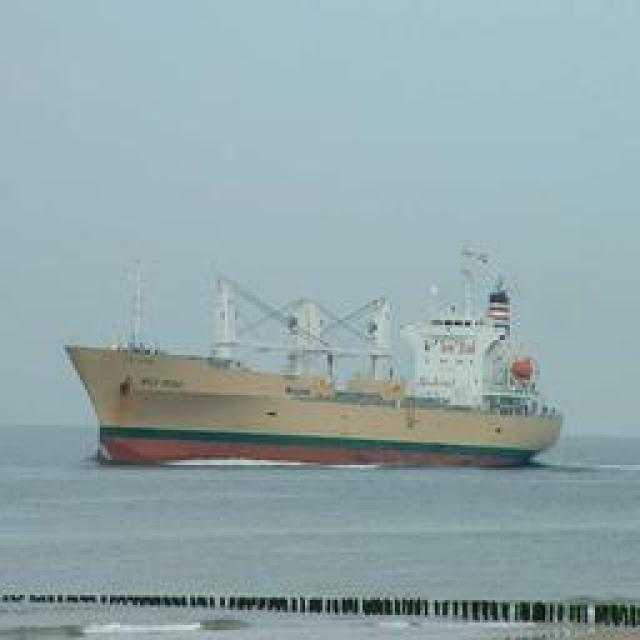ship2: (66, 270, 566, 472)
